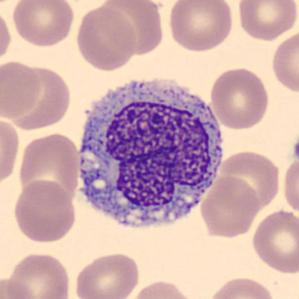Monocyte: (72, 69, 228, 239)
Platelets: (291, 137, 299, 163)
RBC: (16, 129, 82, 209), (4, 62, 74, 132), (73, 4, 138, 73), (11, 178, 78, 244), (217, 148, 283, 214), (198, 174, 261, 239), (208, 65, 270, 131), (166, 0, 235, 53), (96, 0, 163, 54), (72, 250, 142, 299), (4, 250, 73, 299), (10, 0, 76, 49), (250, 208, 298, 275), (235, 0, 299, 42), (0, 58, 43, 120), (269, 28, 298, 95), (207, 274, 277, 299), (0, 114, 21, 188), (129, 277, 197, 299), (281, 155, 299, 218), (0, 275, 38, 299), (0, 6, 13, 65)
